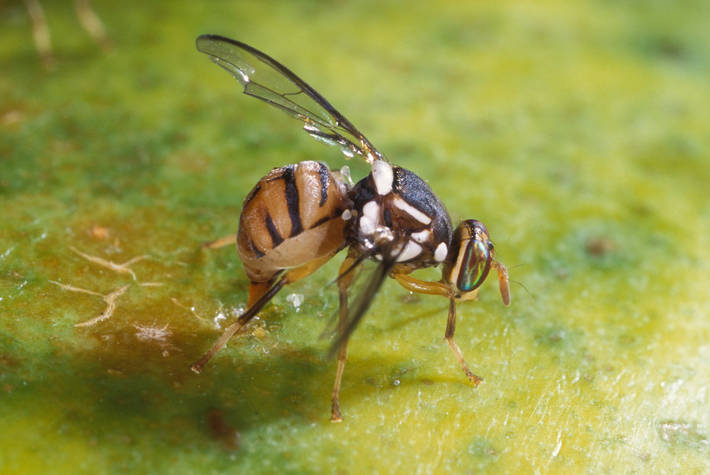Fruit fly: (178, 41, 506, 403)
